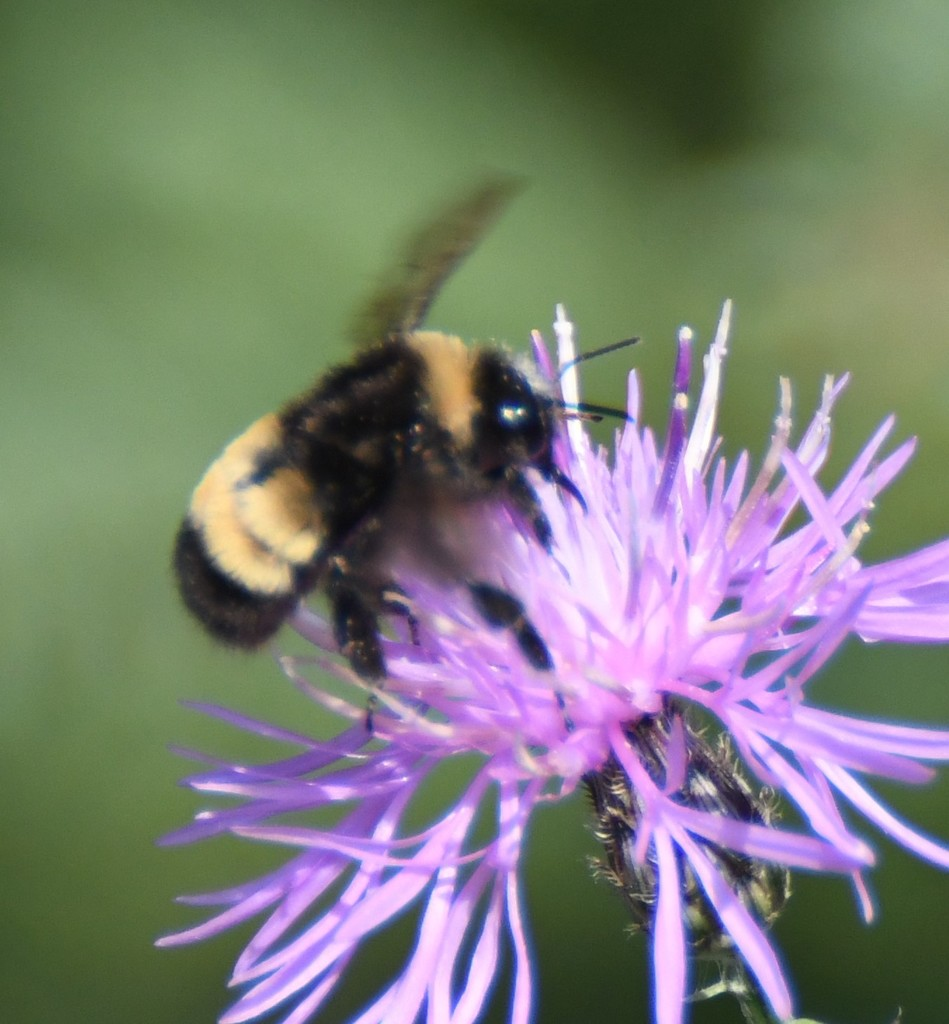bumblebee: (168, 174, 642, 692)
